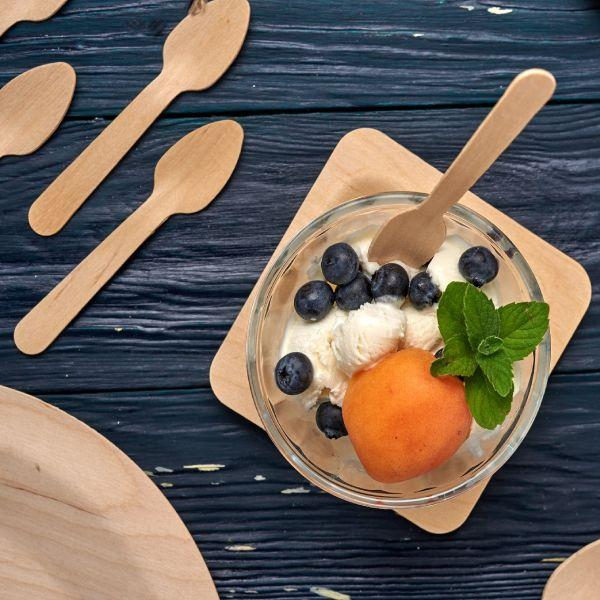Wooden Utensils: (14, 6, 239, 343), (388, 42, 549, 292)
